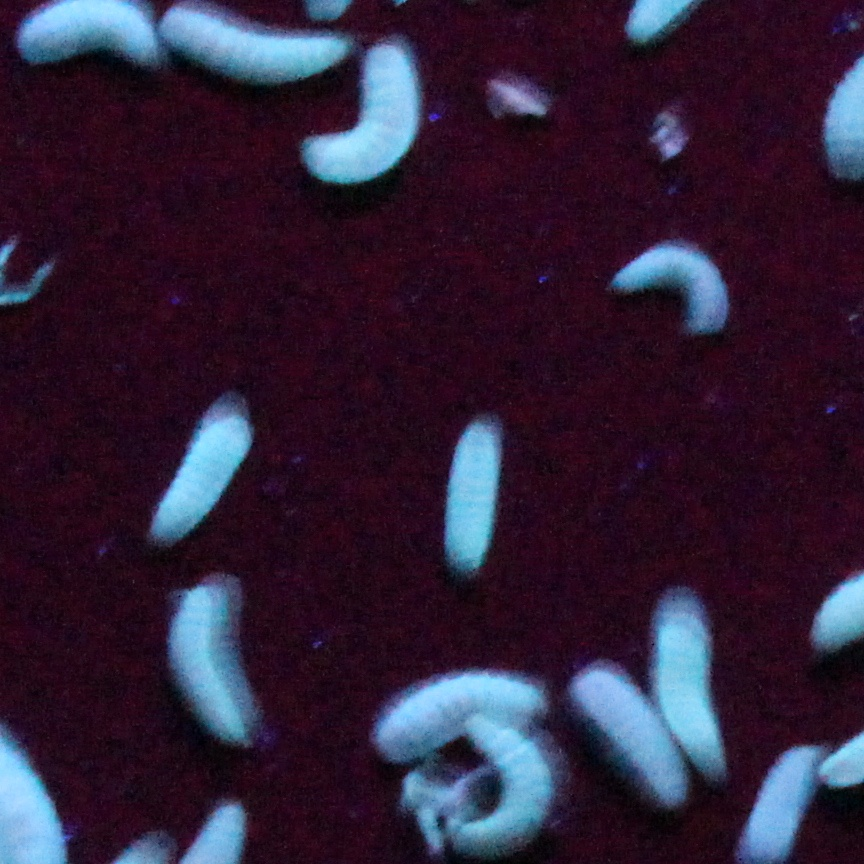larve: (307, 47, 419, 187), (576, 673, 688, 805), (160, 9, 348, 82), (377, 680, 542, 757), (153, 417, 252, 545), (459, 713, 549, 851), (171, 586, 243, 744), (654, 611, 722, 773), (612, 249, 727, 326), (447, 429, 496, 562)
